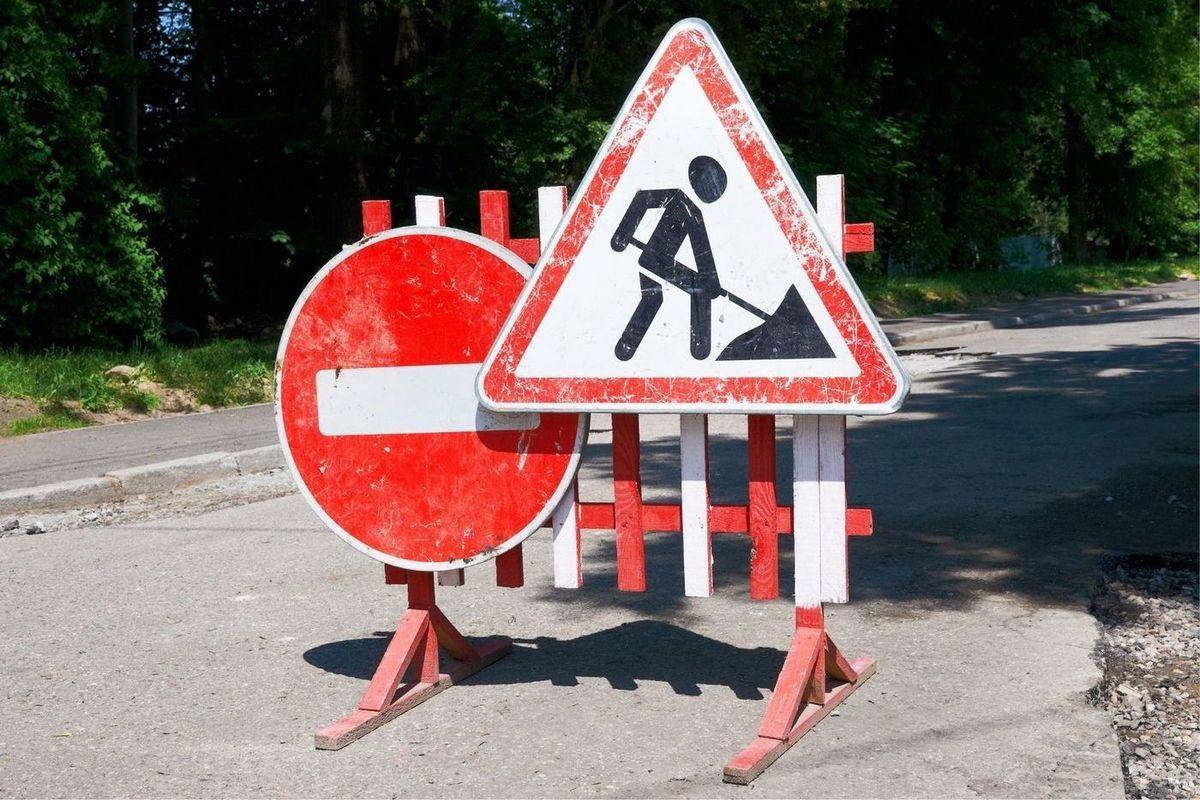obstructed_road_sign: (274, 225, 587, 570)
road_sign: (476, 14, 912, 413)
